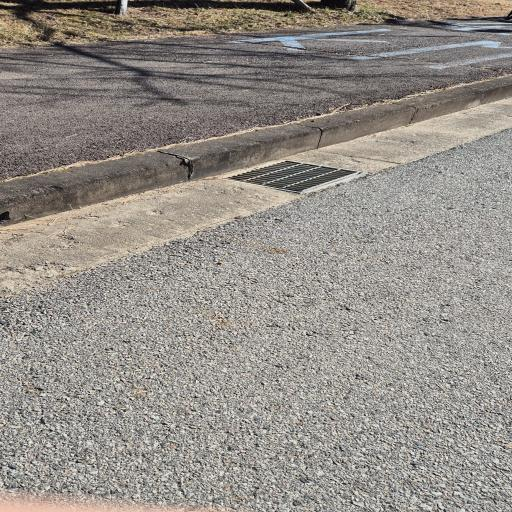drain: (228, 160, 365, 194)
